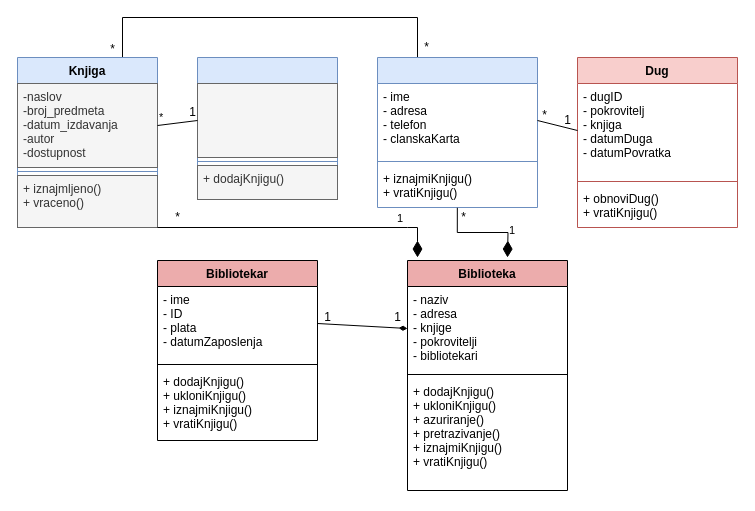
Some shapes in this 755 by 511 pixel diagram are drawn without their labels. The shapes that lost their labels are listed below. From the top down, each one's box as (x1, y1, x2, y2) in pixels, then its label:
(196, 82, 338, 158): - ime - prezime - datum_rodjenja - nacionalnost
(196, 56, 338, 200): Autor
(376, 56, 538, 208): Pokrovitelj
